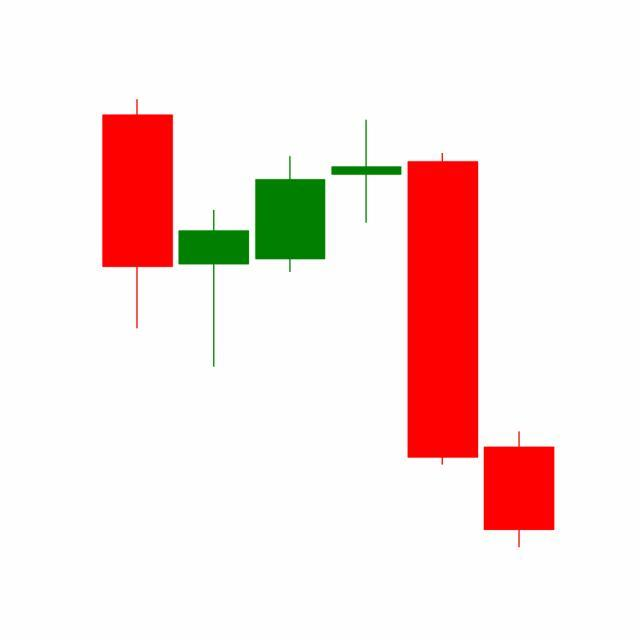Three Line Strike: (175, 117, 482, 470)
